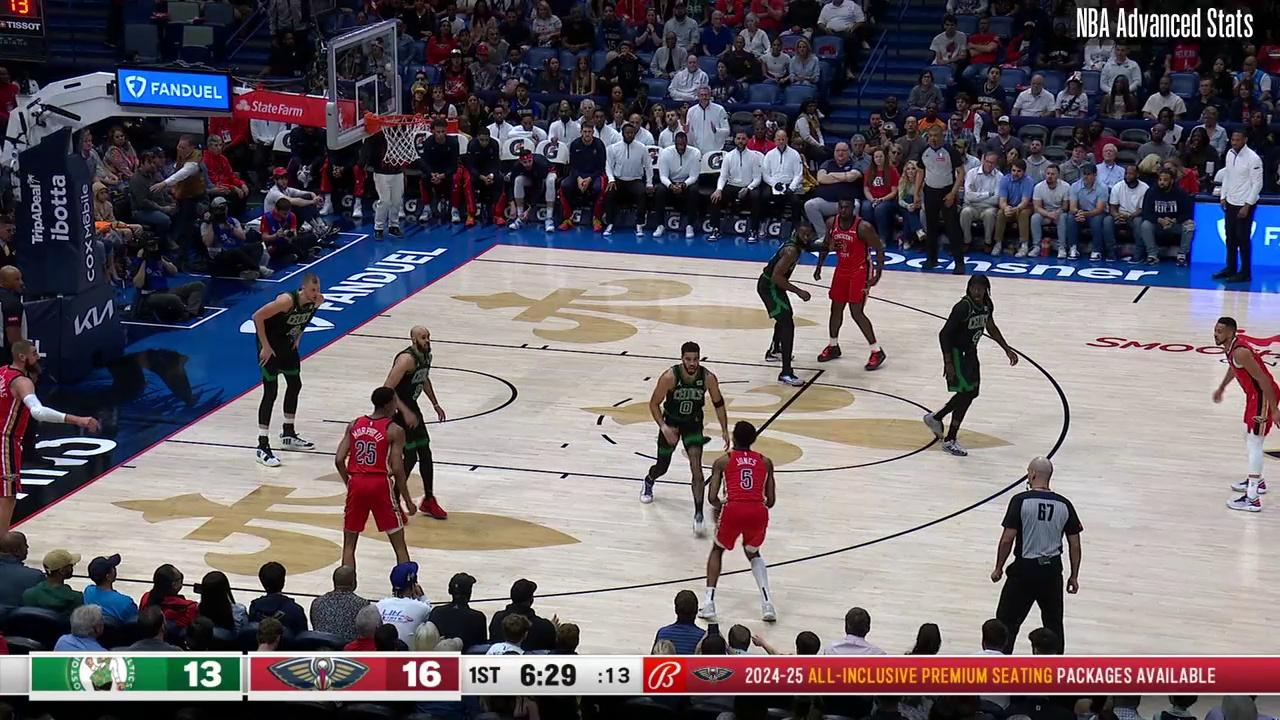3_dx: (468, 254, 480, 263)
b_dx: (492, 240, 502, 250)
free_adx: (816, 366, 829, 378)
free_bdx: (341, 328, 353, 340)
free_bsx: (158, 433, 170, 445)
mid_dx: (1129, 298, 1141, 308)
referee: (989, 455, 1082, 656)
team: (926, 273, 1015, 456), (645, 341, 729, 534), (255, 272, 327, 464), (381, 326, 449, 519), (755, 220, 813, 389)
team1: (0, 340, 97, 545), (335, 387, 417, 590), (697, 421, 777, 623), (816, 199, 891, 370), (1214, 318, 1280, 511)
timer: (515, 650, 581, 693)
